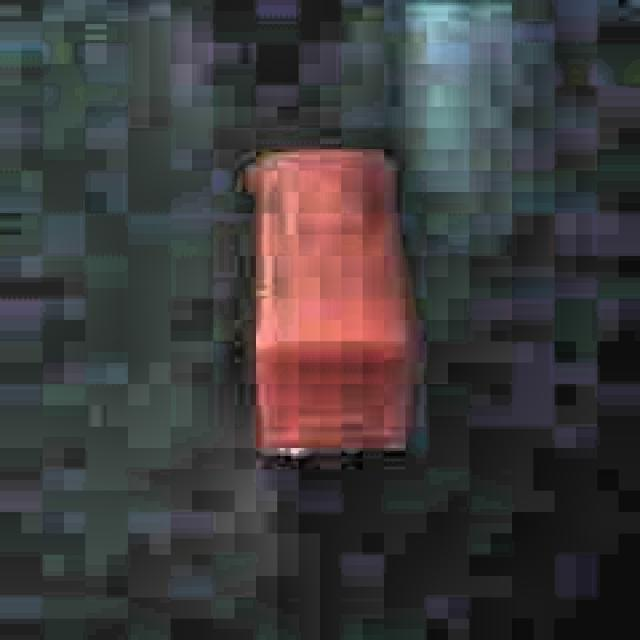bus: (228, 132, 420, 466)
